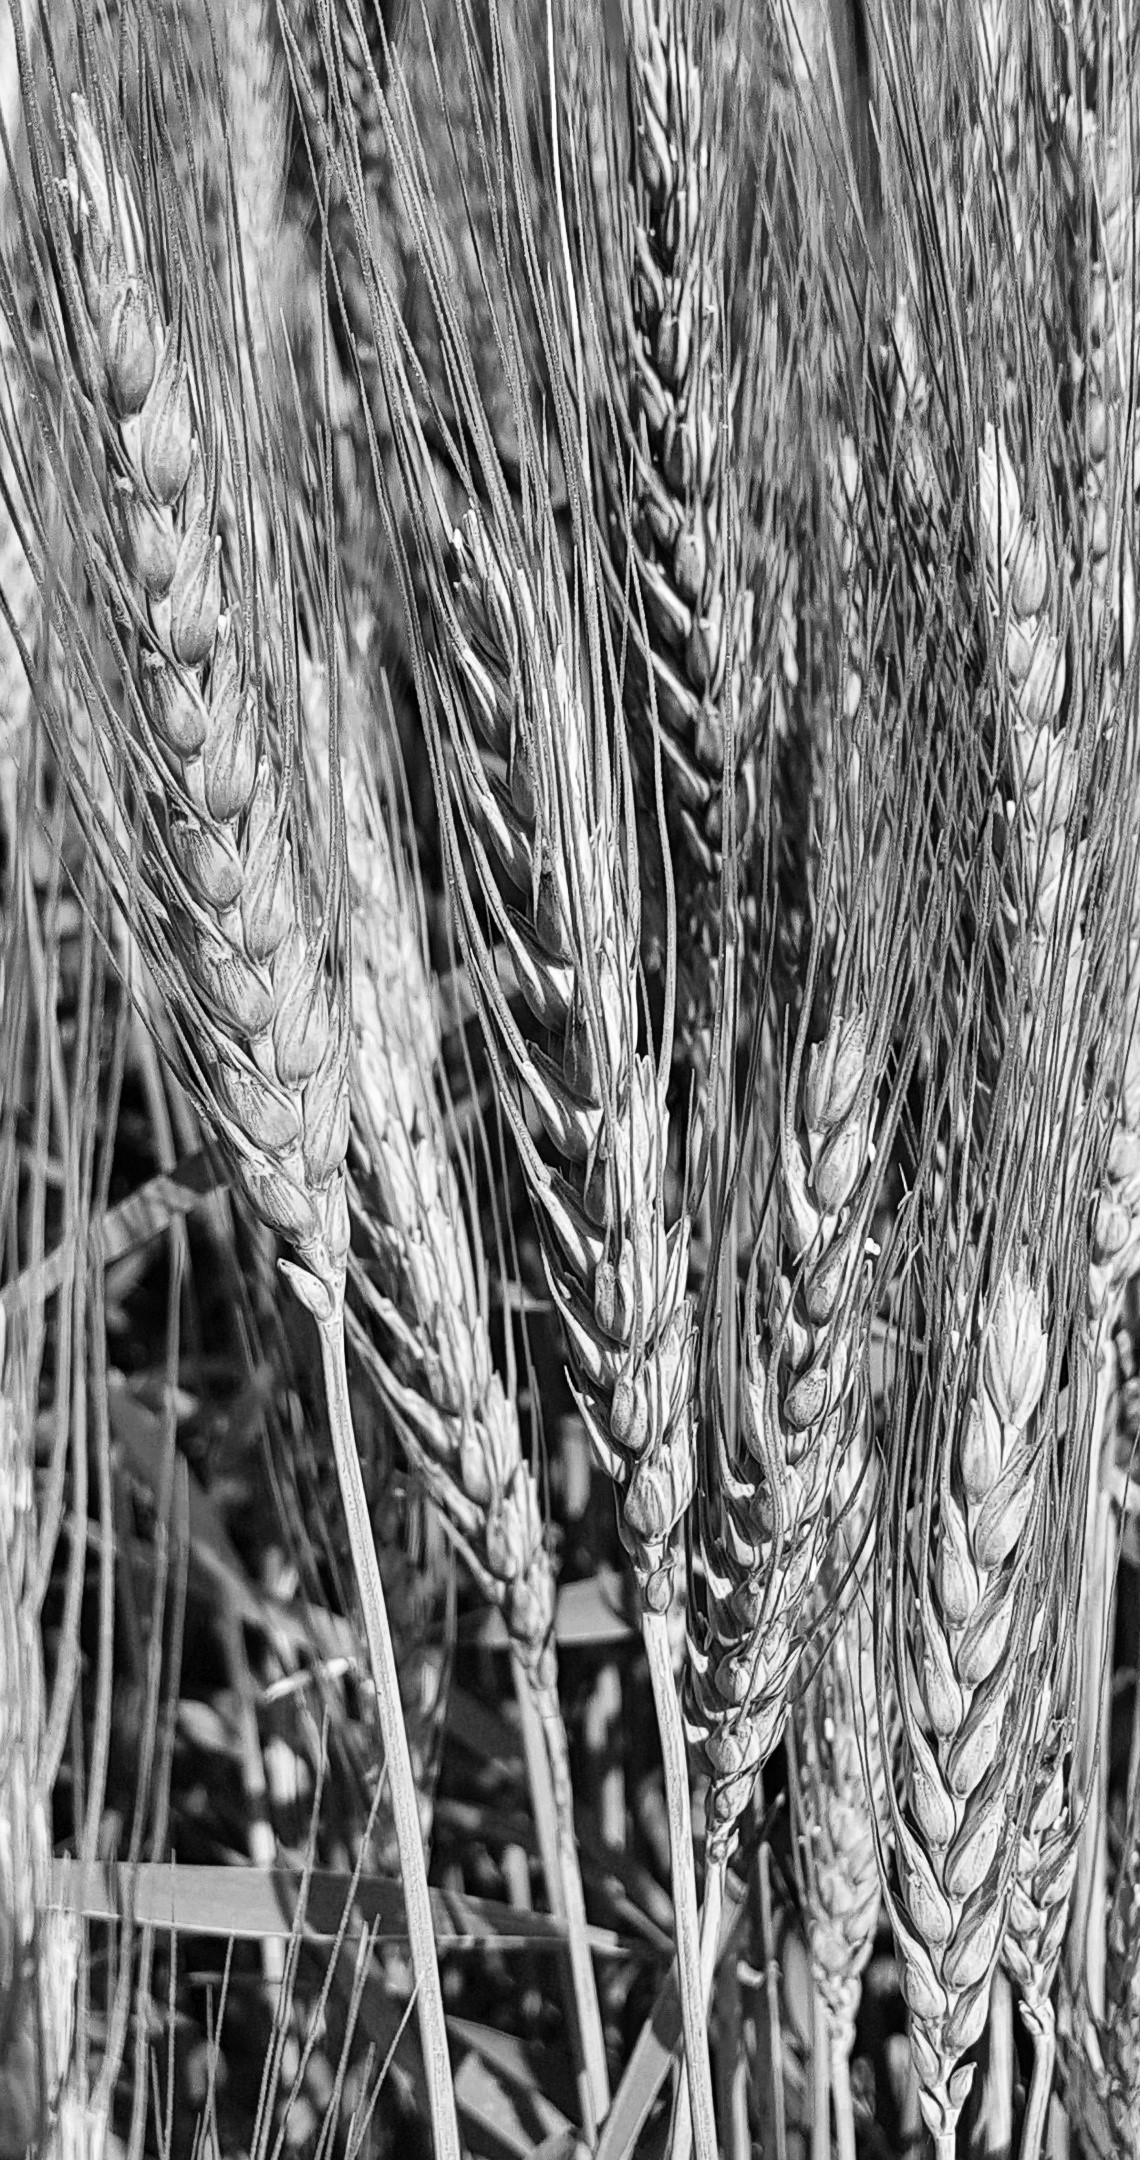Healthy Wheat: (31, 119, 414, 1254), (461, 611, 721, 1580), (880, 1274, 1109, 2091)
